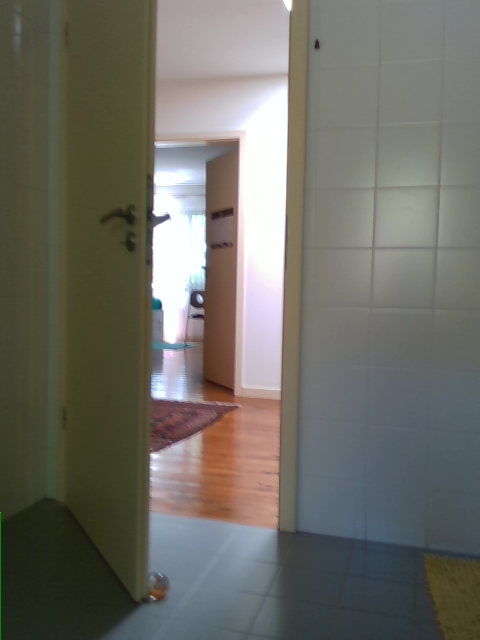semi: (59, 0, 309, 601)
